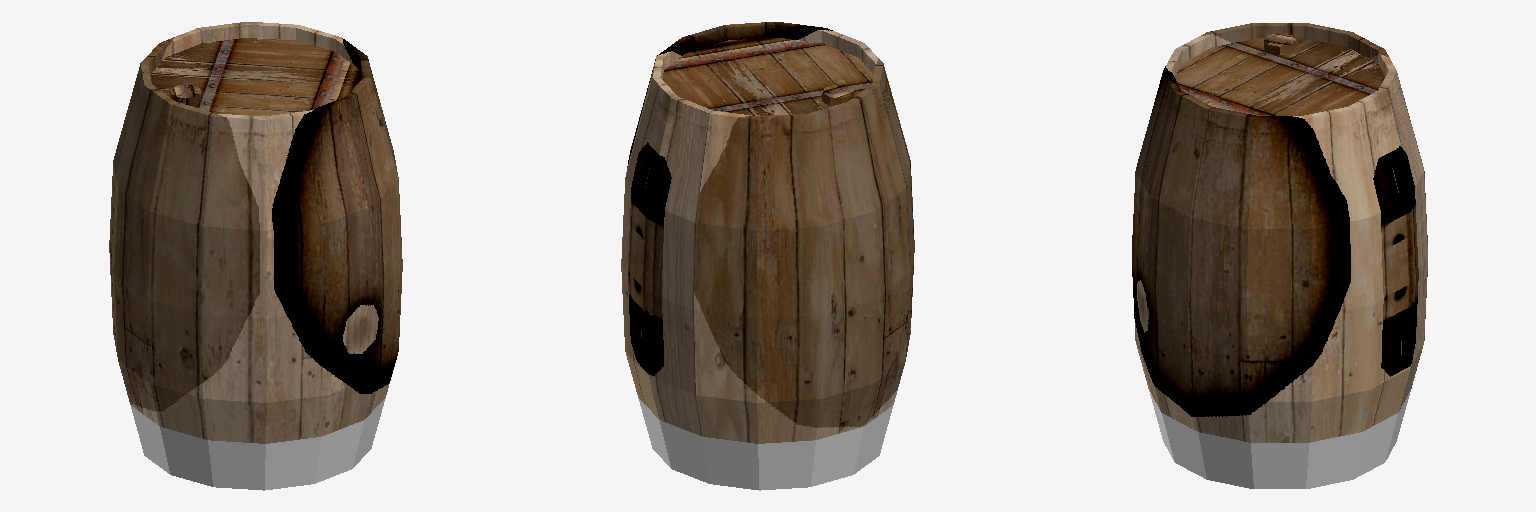
The picture shows the model from 3 angles: view 1: azimuth 30°, elevation 25°; view 2: azimuth 150°, elevation 25°; view 3: azimuth 270°, elevation 25°; orthographic projection.
Parts seen in each view (by area): view 1: Cylinder.001; view 2: Cylinder.001; view 3: Cylinder.001.
Part boxes in pixels (left/top/right/bottom): Cylinder.001: left=109, top=22, right=402, bottom=490; Cylinder.001: left=621, top=22, right=914, bottom=490; Cylinder.001: left=1132, top=23, right=1427, bottom=488.
Size of the model in its own units: 2.63 by 3.72 by 2.7.
1 materials, 1 textured.